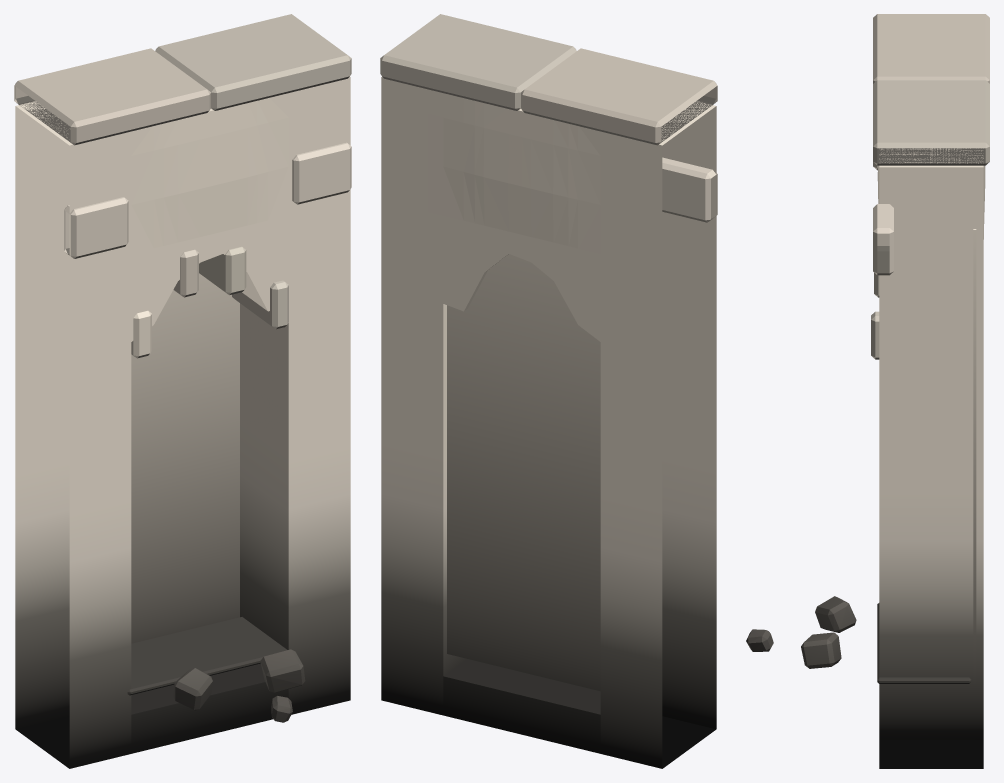
The model's file is SM_VKI_Wall_Ancient_Passage_150_Full.fbx.
3 views of the same model, side by side, from view 1: azimuth 30°, elevation 25°; view 2: azimuth 150°, elevation 25°; view 3: azimuth 270°, elevation 25° (orthographic). The views are drawn at different scales.
Parts seen in each view (by area): view 1: SM_VKI_Wall_Ancient_Passage_150_Full.001; view 2: SM_VKI_Wall_Ancient_Passage_150_Full.001; view 3: SM_VKI_Wall_Ancient_Passage_150_Full.001.
Boxes of the visible parts, x1,y1,x2,y2 form: SM_VKI_Wall_Ancient_Passage_150_Full.001: (14,14,351,768); SM_VKI_Wall_Ancient_Passage_150_Full.001: (380,14,717,768); SM_VKI_Wall_Ancient_Passage_150_Full.001: (746,14,989,768).
Size of the model in its own units: 1.5 by 3.3 by 1.17.
